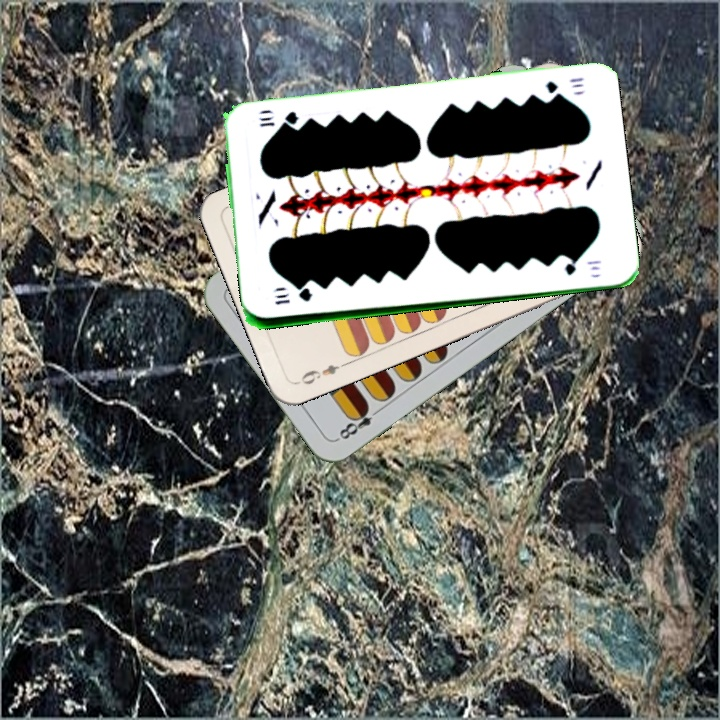E8: (333, 401, 385, 443)
E9: (293, 358, 350, 387)
G10: (541, 73, 586, 99), (271, 288, 315, 308)
